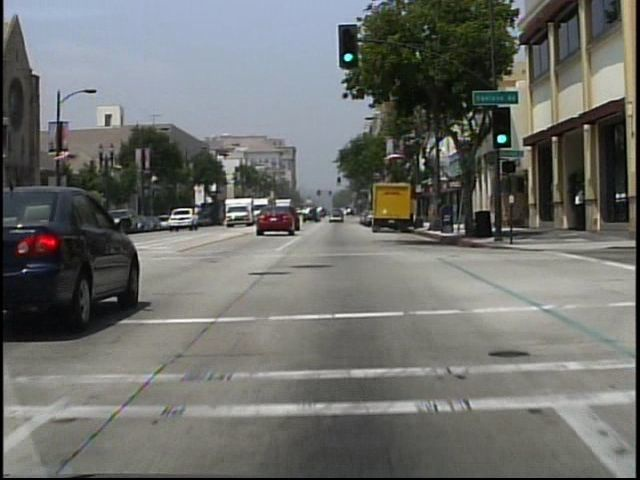person: (571, 190, 584, 230)
